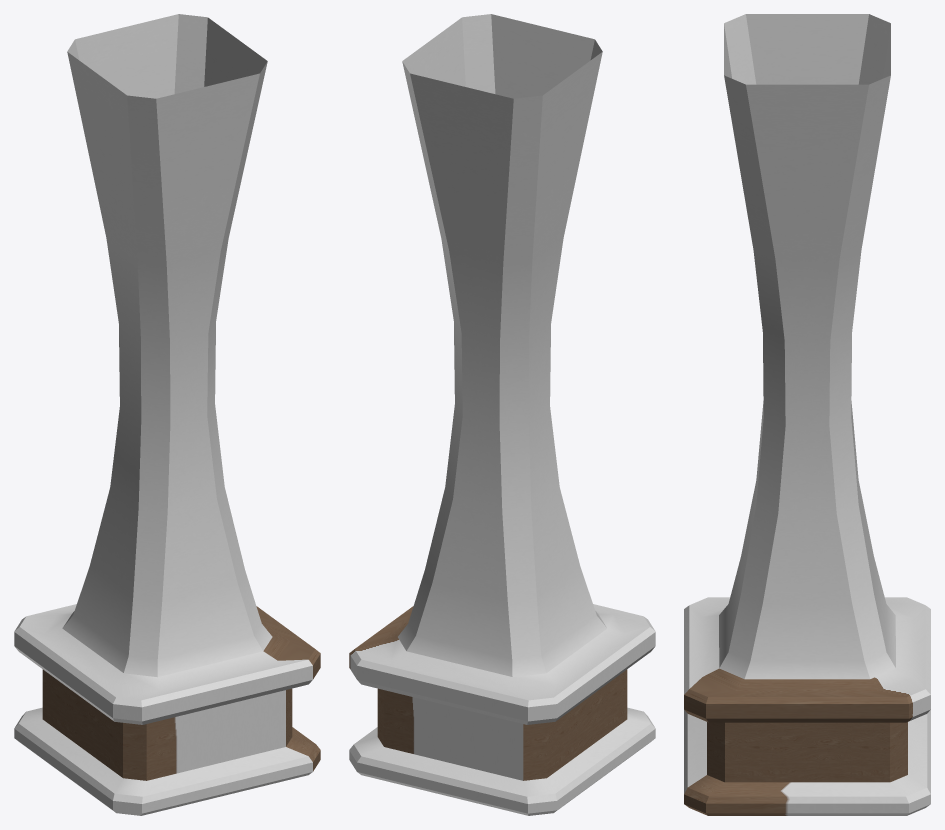
Rendered from props_FirePlace.fbx.
The picture shows the model from 3 angles, left to right: view 1: azimuth 30°, elevation 25°; view 2: azimuth 150°, elevation 25°; view 3: azimuth 270°, elevation 25°; orthographic projection. The views are drawn at different scales.
Parts seen in each view (by area): view 1: Props_FirePlace; view 2: Props_FirePlace; view 3: Props_FirePlace.
Part boxes in pixels (x1,y1,x2,y2): Props_FirePlace: (14, 14, 320, 815); Props_FirePlace: (349, 14, 655, 815); Props_FirePlace: (684, 14, 930, 815).
Size of the model in its own units: 75 by 240 by 75.
